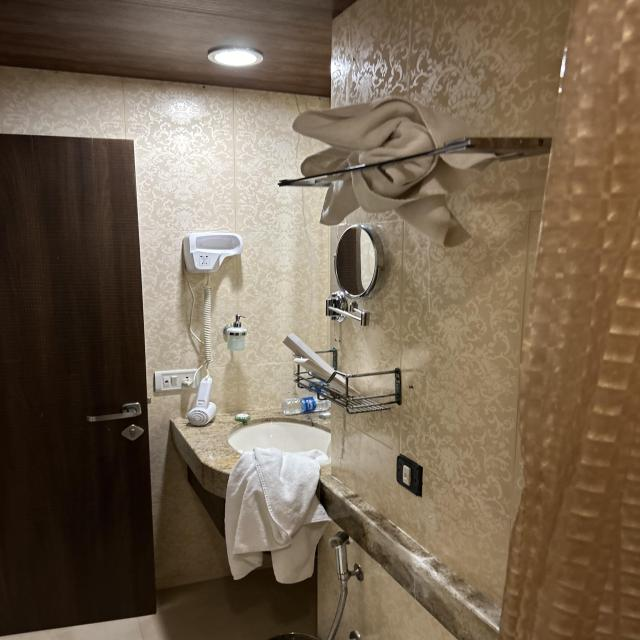mess: (146, 343, 337, 599), (254, 103, 615, 230)
